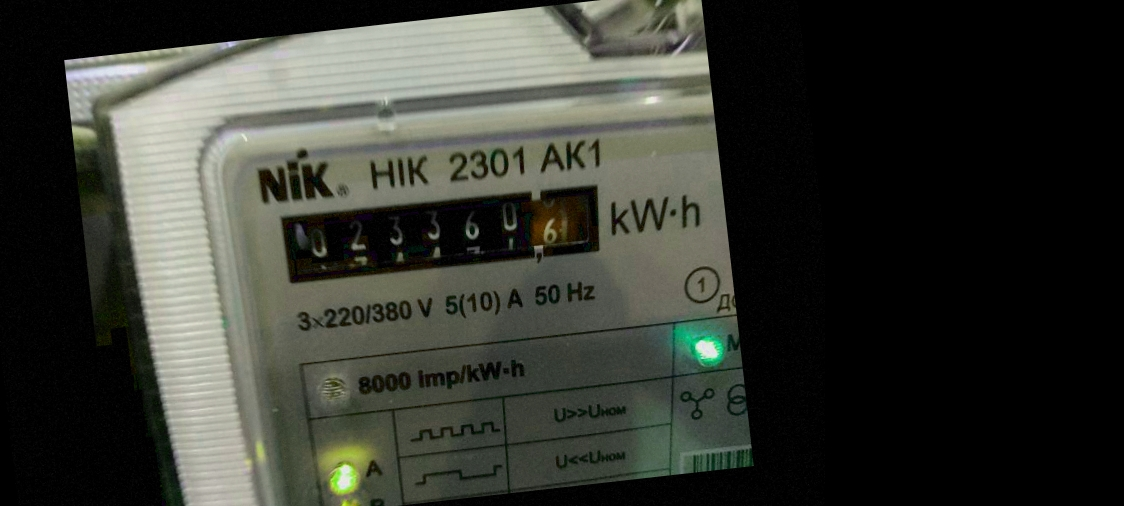0: (496, 197, 522, 234), (305, 222, 330, 259)
2: (344, 216, 369, 253)
3: (383, 211, 407, 248), (422, 206, 443, 242)
6: (459, 205, 482, 241), (538, 211, 559, 246)
screen: (265, 167, 625, 304)
